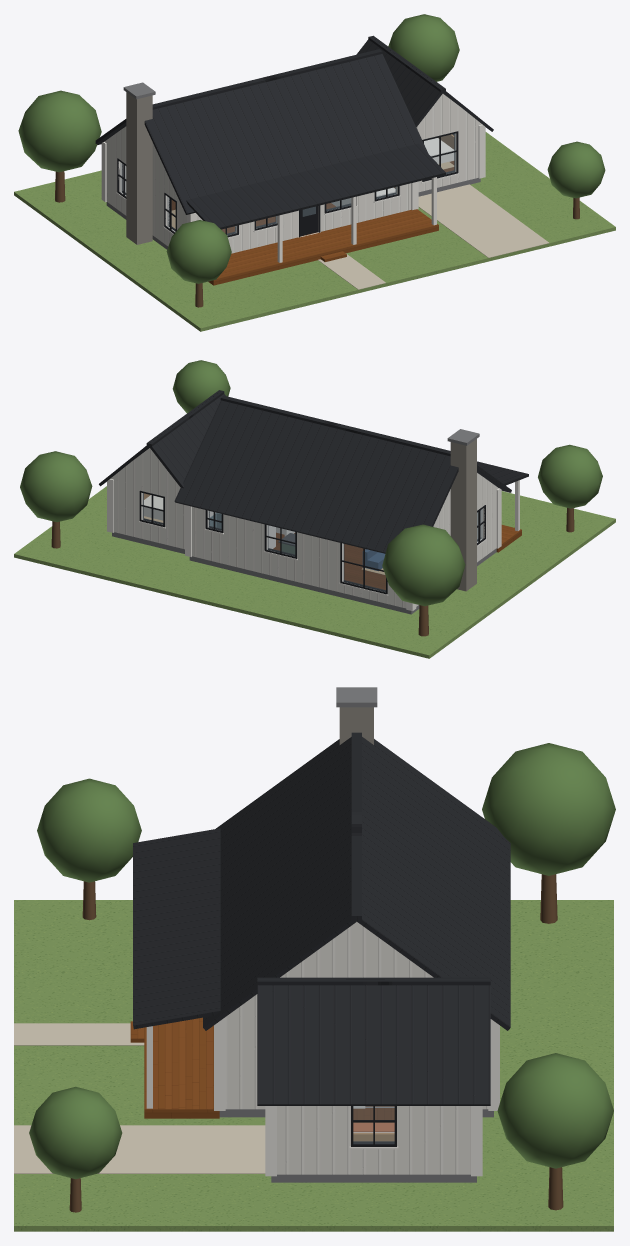
Rendered from farmhouse-white.glb.
3 renders of one model, top to bottom at view 1: azimuth 30°, elevation 25°; view 2: azimuth 150°, elevation 25°; view 3: azimuth 270°, elevation 25°, orthographic. The views are drawn at different scales.
Visible parts, largest first — view 1: roof-roof, lawn, leaves, siding, deck, gravel, stone, roof-siding, trim, glass, frame, foundation (+3 smaller); view 2: roof-roof, lawn, leaves, siding, stone, glass, roof-siding, foundation, frame, trim, wood, trunk; view 3: roof-roof, lawn, leaves, siding, gravel, deck, roof-siding, trim, foundation, trunk, glass, stone.
Part boxes in pixels (left/top/right/bottom): roof-roof: left=95, top=35, right=493, bottom=229; lawn: left=14, top=132, right=615, bottom=331; leaves: left=18, top=14, right=605, bottom=283; siding: left=106, top=125, right=478, bottom=253; deck: left=208, top=209, right=438, bottom=285; gravel: left=318, top=184, right=549, bottom=289; stone: left=126, top=92, right=152, bottom=244; roof-siding: left=104, top=94, right=481, bottom=194; trim: left=101, top=124, right=485, bottom=262; glass: left=120, top=133, right=455, bottom=235; frame: left=117, top=131, right=458, bottom=237; foundation: left=106, top=82, right=480, bottom=249; roof-roof: left=99, top=390, right=528, bottom=553; lawn: left=14, top=486, right=615, bottom=658; leaves: left=20, top=360, right=602, bottom=606; siding: left=114, top=480, right=496, bottom=608; stone: left=450, top=439, right=476, bottom=591; glass: left=142, top=493, right=482, bottom=591; roof-siding: left=110, top=448, right=498, bottom=529; foundation: left=112, top=429, right=496, bottom=614; frame: left=139, top=490, right=485, bottom=594; trim: left=107, top=479, right=519, bottom=610; wood: left=273, top=532, right=385, bottom=589; trunk: left=51, top=508, right=574, bottom=636; roof-roof: left=133, top=732, right=510, bottom=1105; lawn: left=14, top=900, right=613, bottom=1231; leaves: left=29, top=743, right=615, bottom=1179; siding: left=225, top=1016, right=488, bottom=1174; gravel: left=14, top=1023, right=265, bottom=1173; deck: left=130, top=1017, right=219, bottom=1118; roof-siding: left=227, top=922, right=433, bottom=1016; trim: left=146, top=1017, right=499, bottom=1176; foundation: left=219, top=687, right=493, bottom=1182; trunk: left=69, top=874, right=563, bottom=1212; glass: left=353, top=1106, right=394, bottom=1143; stone: left=339, top=707, right=373, bottom=744.
Bounding box in the file's own units: 0.4691 × 0.1586 × 0.3511.
34 materials, 8 textured.
